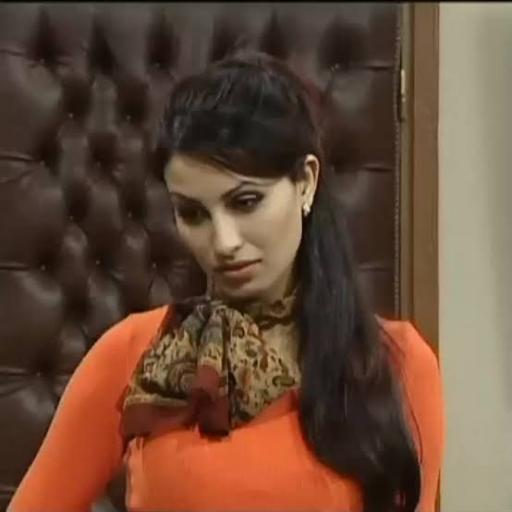Dalanda: (161, 116, 320, 301)
